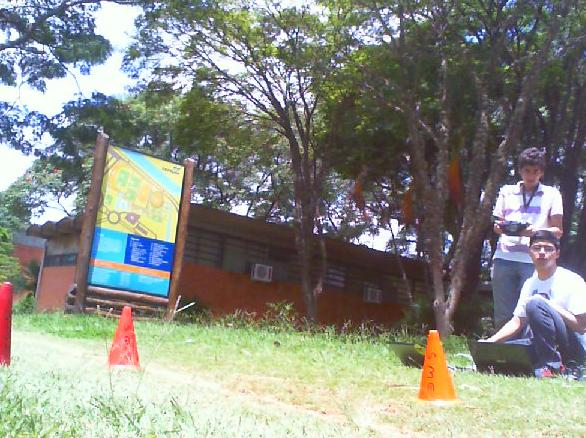0 cone: (412, 330, 458, 405), (109, 307, 139, 365), (0, 281, 12, 365)
